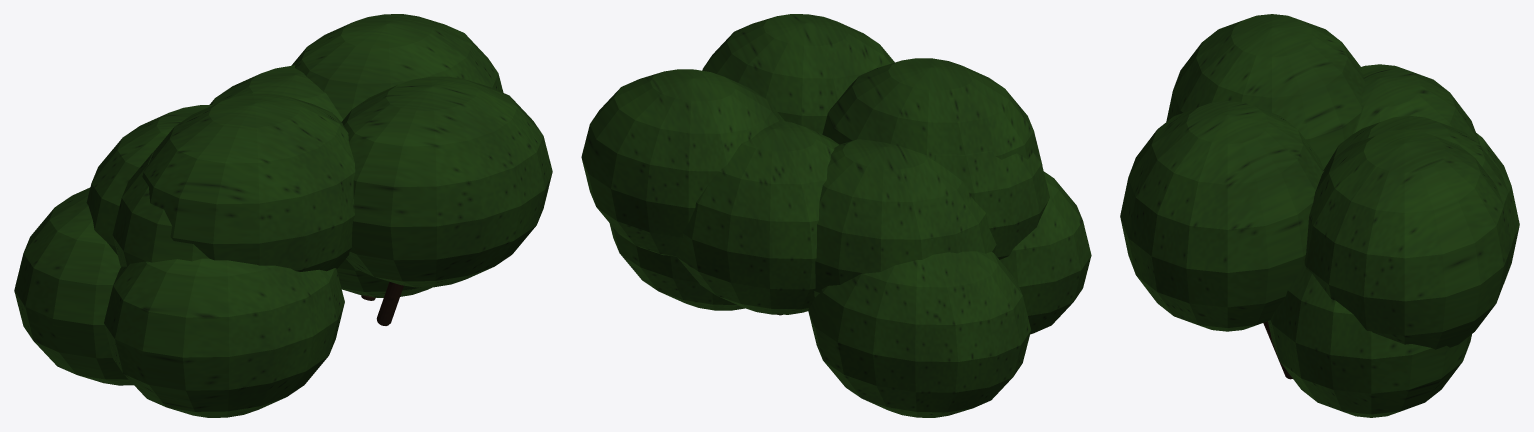
The model's file is PROP-E506F8AF3772_lod0.glb.
3 renders of one model, left to right at view 1: azimuth 30°, elevation 25°; view 2: azimuth 150°, elevation 25°; view 3: azimuth 270°, elevation 25°, orthographic. The views are drawn at different scales.
Parts seen in each view (by area): view 1: foliage.002, plant_stem.002; view 2: foliage.002; view 3: foliage.002.
Boxes of the visible parts, x1=… form: foliage.002: x1=14, y1=14, x2=552, y2=417; plant_stem.002: x1=361, y1=281, x2=403, y2=325; foliage.002: x1=581, y1=14, x2=1091, y2=417; foliage.002: x1=1120, y1=14, x2=1519, y2=417.
Bounding box in the file's own units: 1.28 × 0.8042 × 0.8935.
2 materials, 2 textured.
